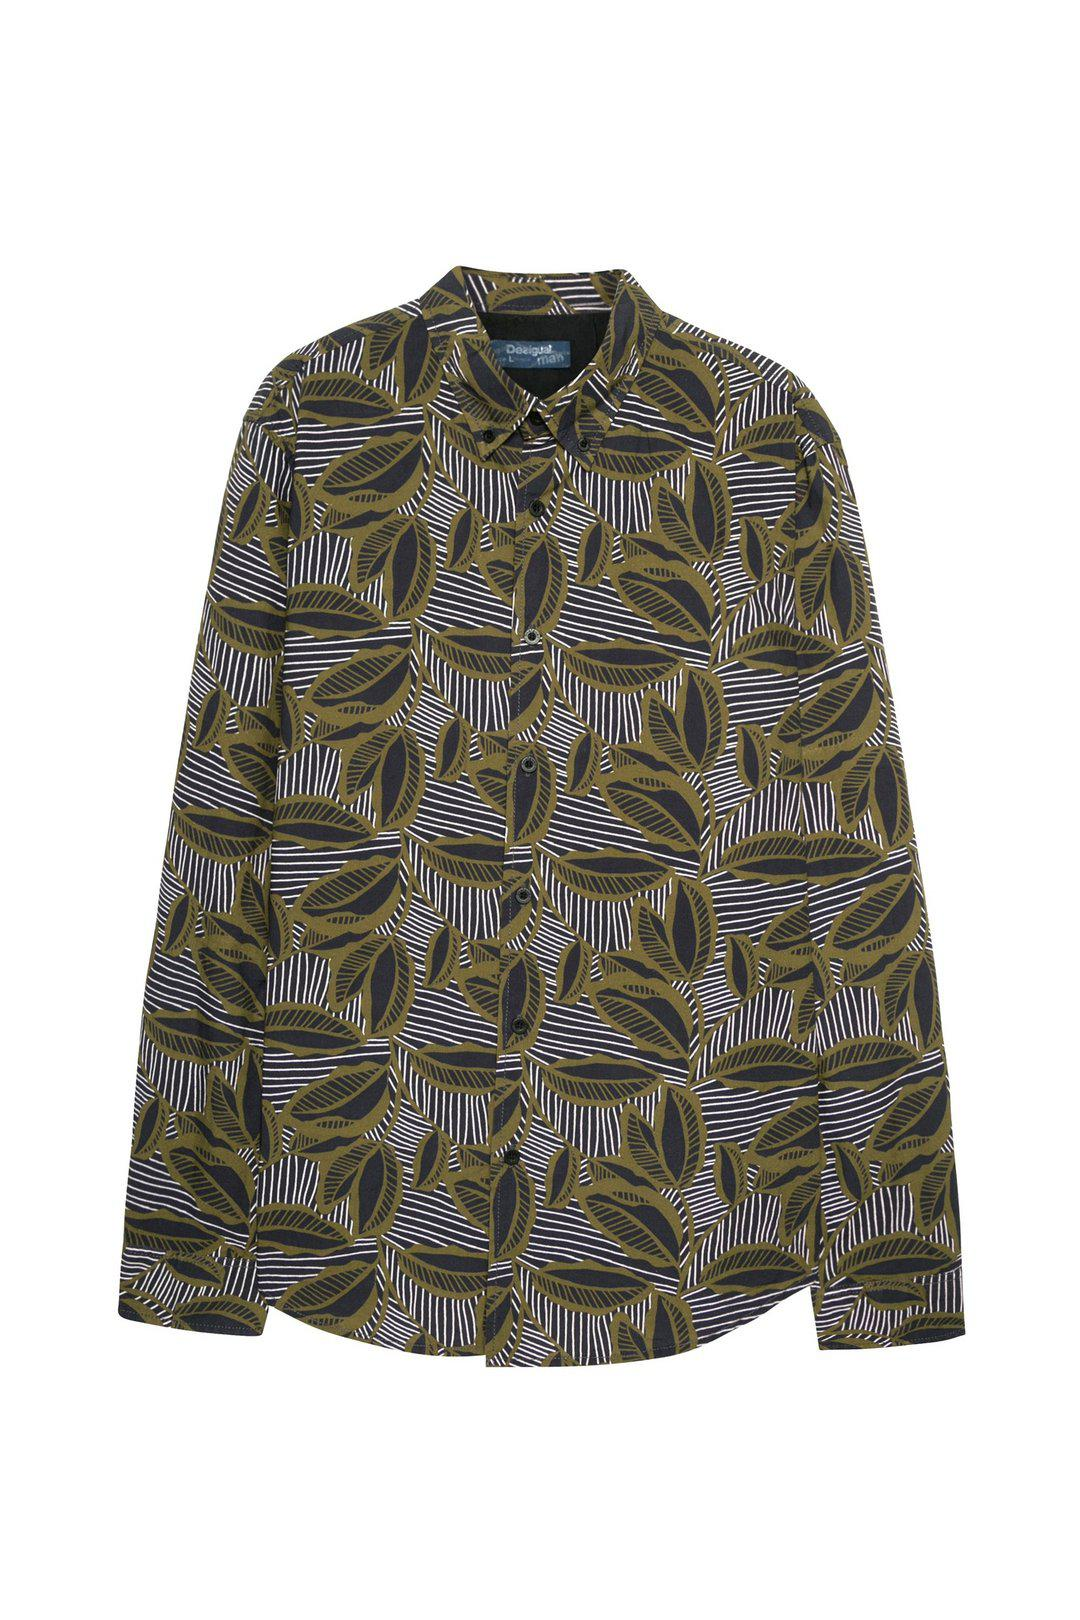teeshirt: (101, 265, 986, 1383)
